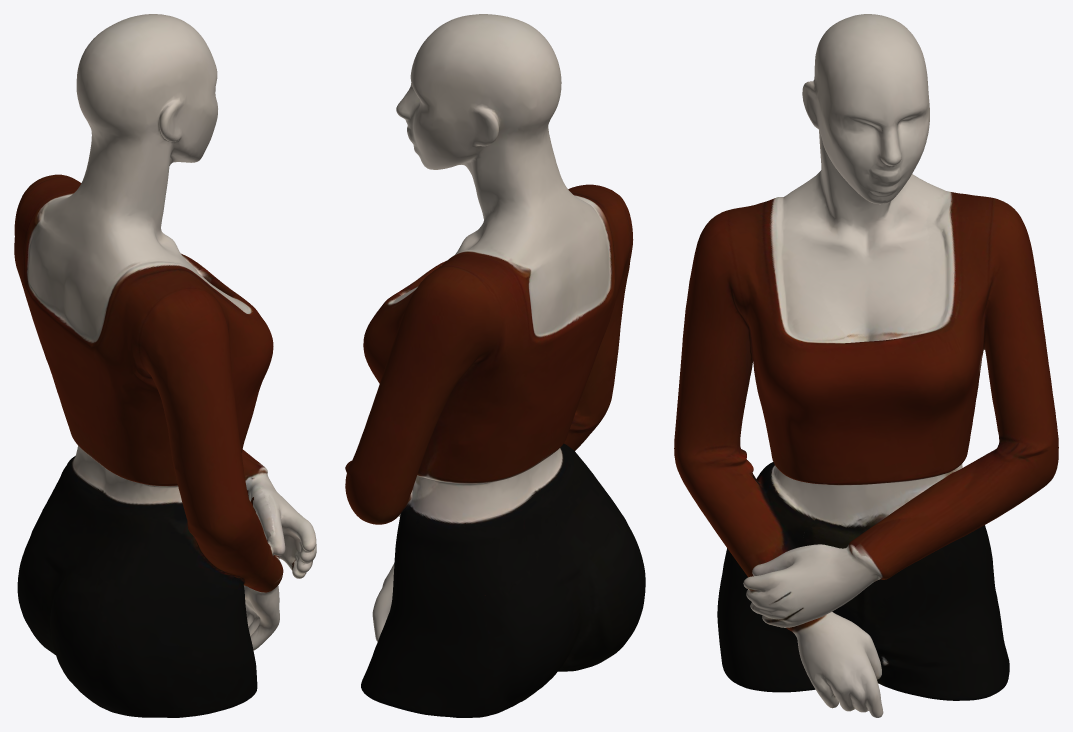
The model's file is character.glb.
3 renders of one model, left to right at view 1: azimuth 30°, elevation 25°; view 2: azimuth 150°, elevation 25°; view 3: azimuth 270°, elevation 25°, orthographic.
Visible parts, largest first — view 1: tripo_node_4094a0c8-c335-4c57-aa3f-a90d661749e4; view 2: tripo_node_4094a0c8-c335-4c57-aa3f-a90d661749e4; view 3: tripo_node_4094a0c8-c335-4c57-aa3f-a90d661749e4.
Part boxes in pixels (left/top/right/bottom): tripo_node_4094a0c8-c335-4c57-aa3f-a90d661749e4: left=14, top=14, right=316, bottom=717; tripo_node_4094a0c8-c335-4c57-aa3f-a90d661749e4: left=345, top=14, right=645, bottom=717; tripo_node_4094a0c8-c335-4c57-aa3f-a90d661749e4: left=674, top=14, right=1058, bottom=717.
Size of the model in its own units: 0.3699 by 0.9503 by 0.515.
1 material, 1 textured.
